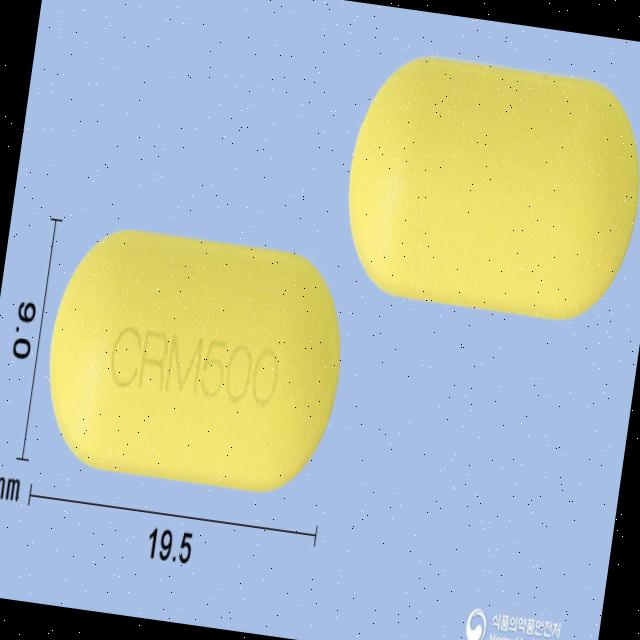Crama: (34, 218, 357, 500), (333, 43, 640, 324)
